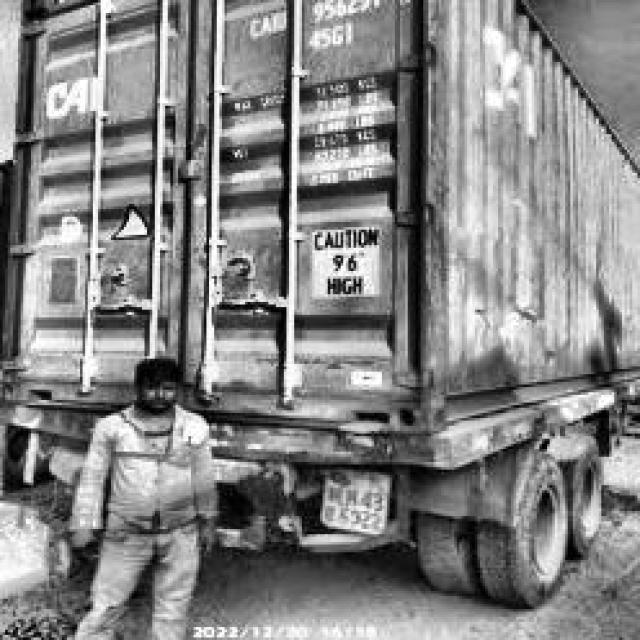ISO: (311, 24, 357, 48)
container_number: (233, 0, 408, 25)
